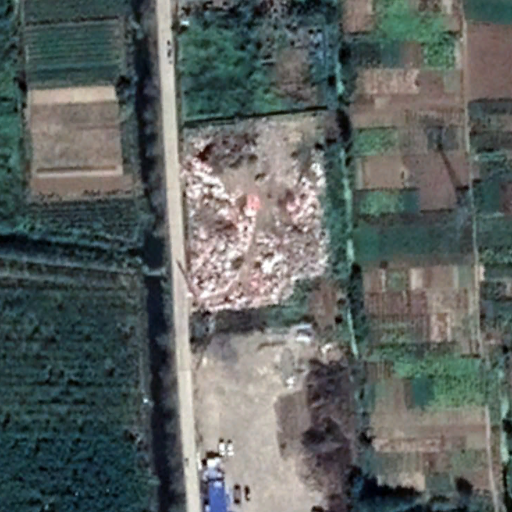msw: (179, 151, 333, 307)
